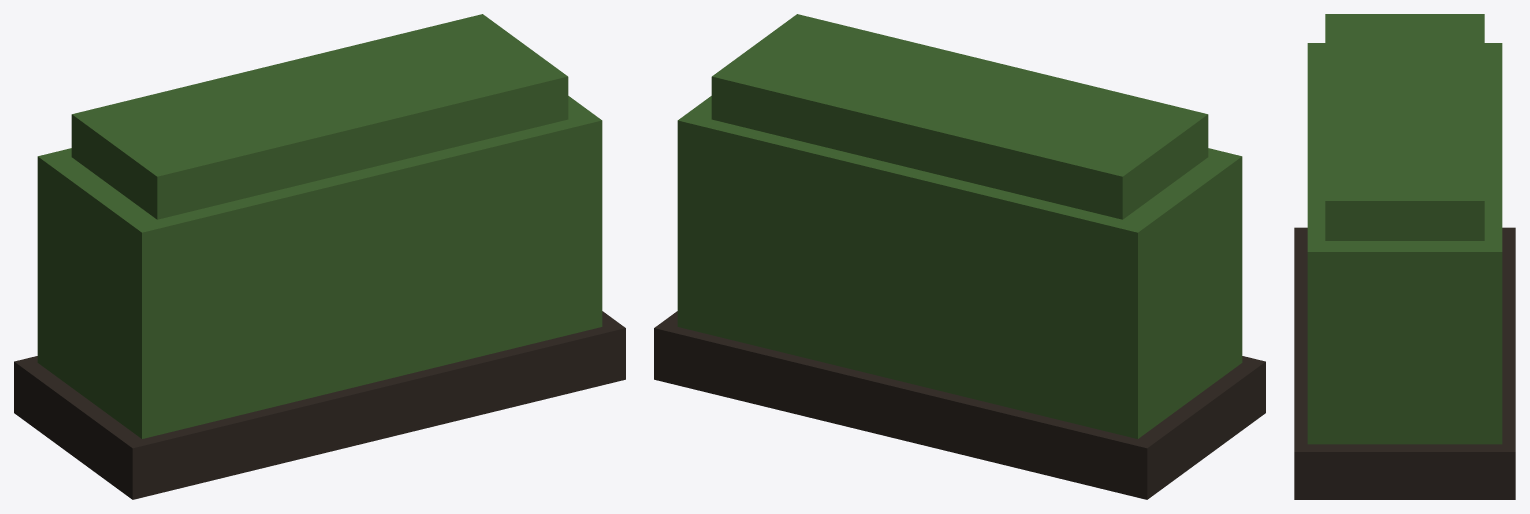
Rendered from banque_haie.glb.
The picture shows the model from 3 angles, left to right: view 1: azimuth 30°, elevation 25°; view 2: azimuth 150°, elevation 25°; view 3: azimuth 270°, elevation 25°; orthographic projection. The views are drawn at different scales.
Visible parts, largest first — view 1: banque_haie; view 2: banque_haie; view 3: banque_haie.
Part boxes in pixels (x1,y1,x2,y2): banque_haie: (14,14,625,499); banque_haie: (654,14,1265,499); banque_haie: (1294,14,1515,499).
Size of the model in its own units: 1.2 by 0.7 by 0.5.
